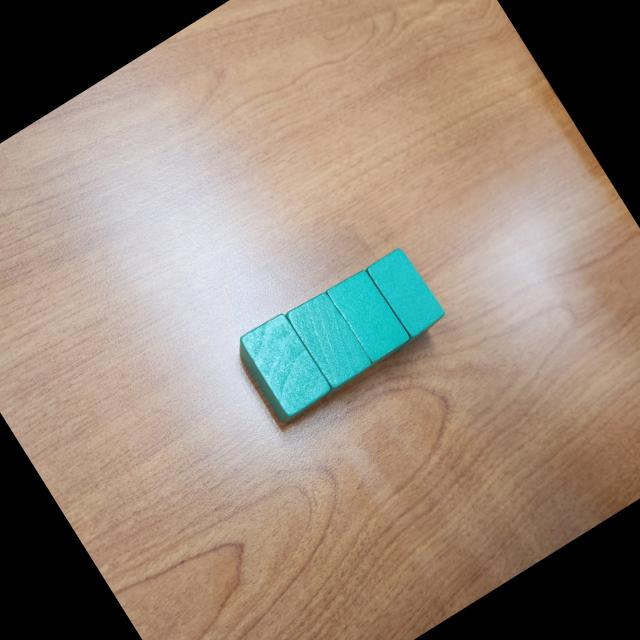green: (230, 308, 336, 426), (274, 286, 376, 401), (350, 245, 450, 352), (324, 266, 414, 368)
